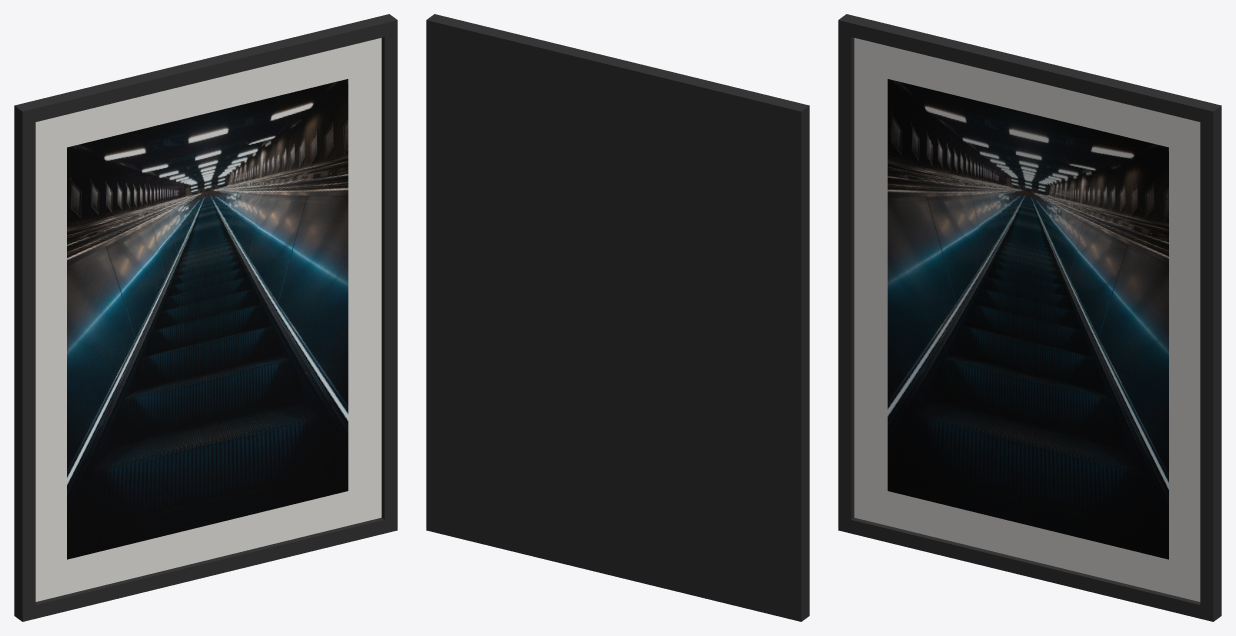
Rendered from rulltrappan-60.gltf.
3 views of the same model, side by side, from view 1: azimuth 30°, elevation 25°; view 2: azimuth 150°, elevation 25°; view 3: azimuth 330°, elevation 25° (orthographic).
Parts seen in each view (by area): view 1: tavla; view 2: tavla; view 3: tavla.
Part boxes in pixels (left/top/right/bottom): tavla: left=14, top=14, right=397, bottom=621; tavla: left=426, top=14, right=809, bottom=621; tavla: left=838, top=14, right=1221, bottom=621.
Bounding box in the file's own units: 0.5716 × 0.7429 × 0.022.
Materials: 3 (1 with a texture image).
